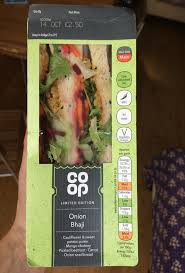sandwich: (11, 1, 152, 273)
